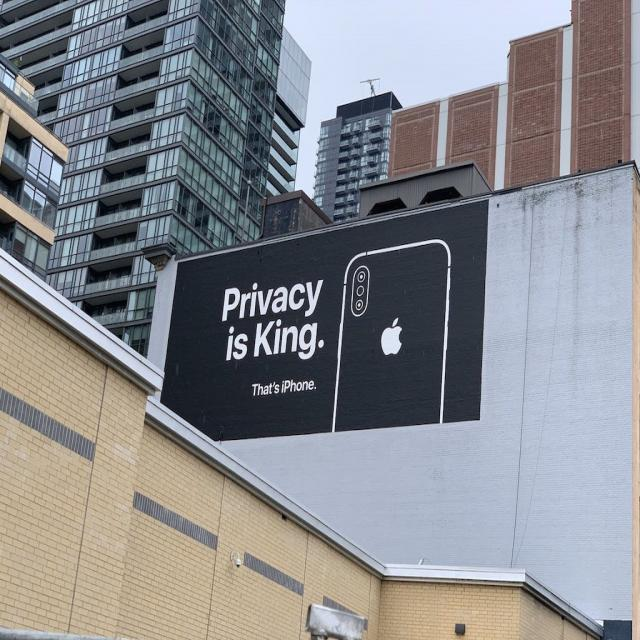Werbetafel frei: (152, 199, 492, 448)
